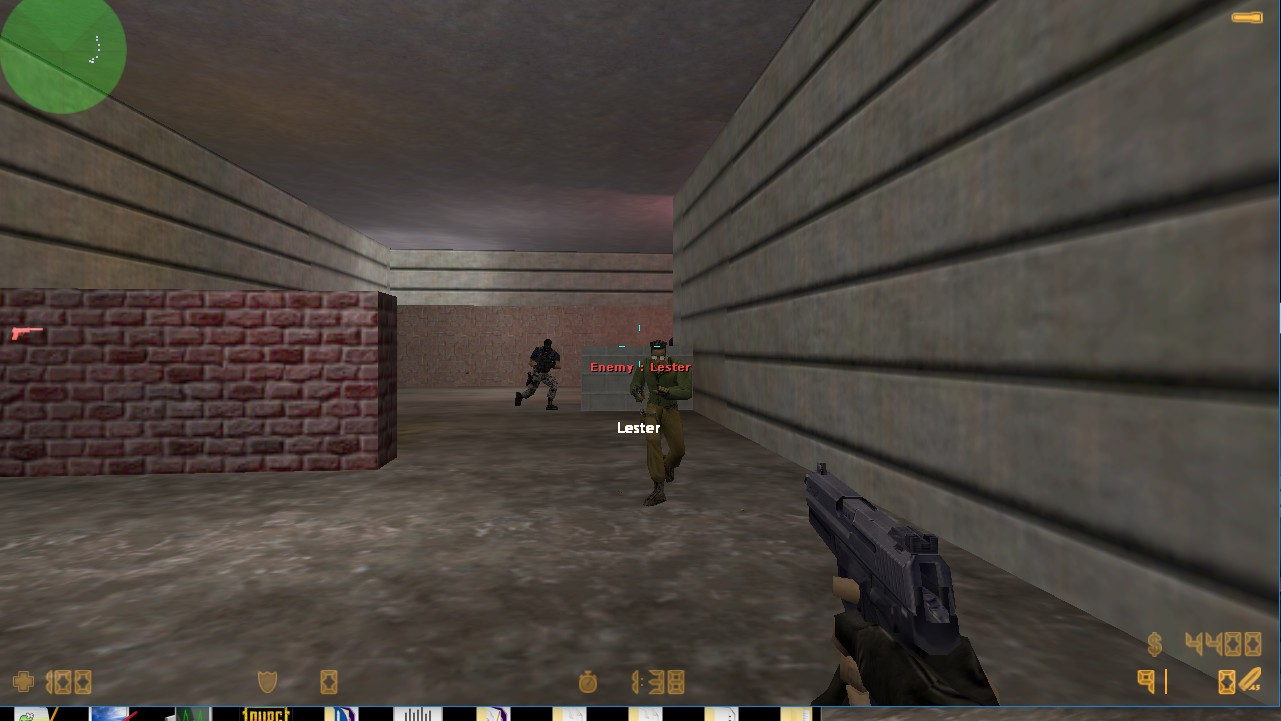person: (626, 337, 703, 513), (517, 332, 566, 418)
